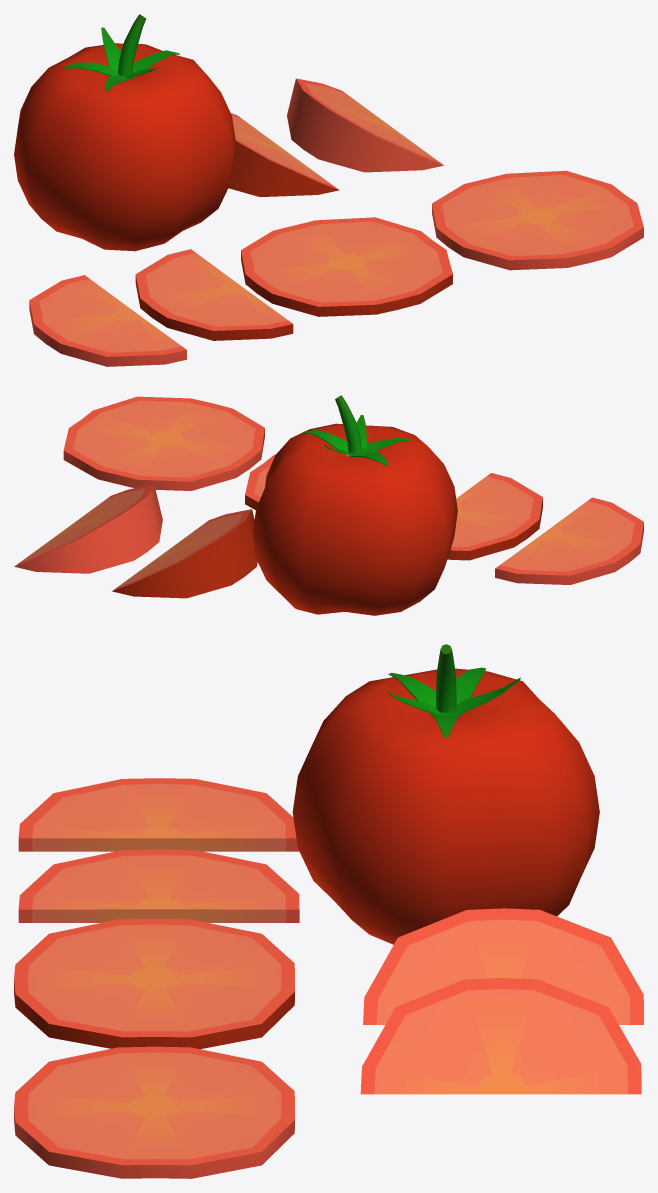
The model's file is tomato.fbx.
3 views of the same model, one above another, from view 1: azimuth 30°, elevation 25°; view 2: azimuth 150°, elevation 25°; view 3: azimuth 270°, elevation 25° (orthographic). The views are drawn at different scales.
Parts seen in each view (by area): view 1: tomato, tomatoSlice, tomatoSlice_Peeled, tomatoSlice_Half, tomatoSlice_Half_Peeled, tomatoSliceWedge_Peeled, tomatoSliceWedge, sapLeaves, sap; view 2: tomato, tomatoSlice_Peeled, tomatoSlice_Half_Peeled, tomatoSliceWedge_Peeled, tomatoSliceWedge, tomatoSlice_Half, sapLeaves, tomatoSlice, sap; view 3: tomato, tomatoSlice_Peeled, tomatoSlice, tomatoSliceWedge_Peeled, tomatoSliceWedge, tomatoSlice_Half_Peeled, tomatoSlice_Half, sapLeaves, sap.
Boxes of the visible parts, x1,y1,x2,y2 form: tomato: [14, 43, 235, 251]; tomatoSlice: [241, 217, 452, 316]; tomatoSlice_Peeled: [432, 170, 643, 270]; tomatoSlice_Half: [135, 249, 293, 340]; tomatoSlice_Half_Peeled: [29, 275, 186, 366]; tomatoSliceWedge_Peeled: [287, 78, 443, 172]; tomatoSliceWedge: [228, 113, 339, 196]; sapLeaves: [63, 27, 179, 91]; sap: [118, 14, 145, 75]; tomato: [252, 423, 457, 615]; tomatoSlice_Peeled: [63, 396, 264, 490]; tomatoSlice_Half_Peeled: [495, 497, 643, 584]; tomatoSliceWedge_Peeled: [14, 484, 162, 573]; tomatoSliceWedge: [112, 509, 257, 598]; tomatoSlice_Half: [447, 473, 542, 560]; sapLeaves: [303, 415, 411, 465]; tomatoSlice: [245, 454, 275, 510]; sap: [335, 395, 361, 453]; tomato: [292, 668, 599, 944]; tomatoSlice_Peeled: [14, 1046, 294, 1178]; tomatoSlice: [14, 918, 294, 1049]; tomatoSliceWedge_Peeled: [360, 978, 641, 1094]; tomatoSliceWedge: [363, 908, 643, 1024]; tomatoSlice_Half_Peeled: [18, 778, 299, 851]; tomatoSlice_Half: [18, 849, 299, 922]; sapLeaves: [387, 667, 520, 737]; sap: [436, 644, 456, 712].
Bounding box in the file's own units: 3.22 × 2.21 × 1.1.
Materials: 1 (1 with a texture image).
